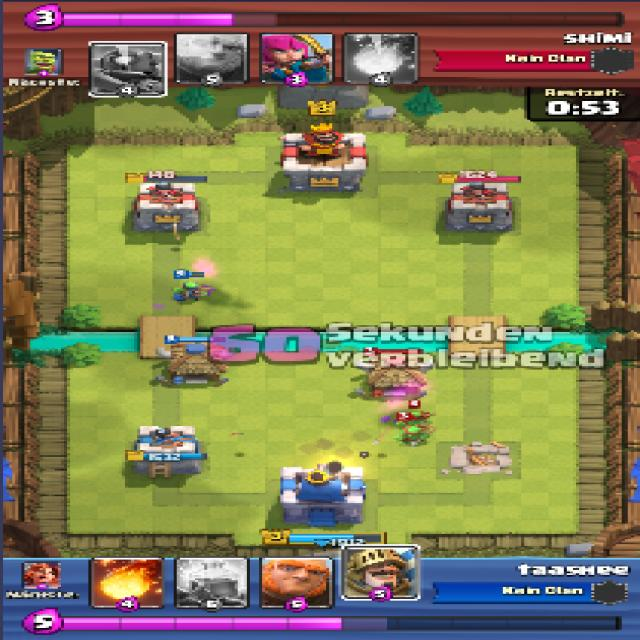Enemy-GoblinHut: (348, 352, 443, 400)
Enemy-SpearGoblin: (396, 410, 434, 428), (395, 426, 431, 444)
Player-GoblinHut: (154, 343, 240, 387)
Player-SpearGoblin: (170, 280, 213, 302)
